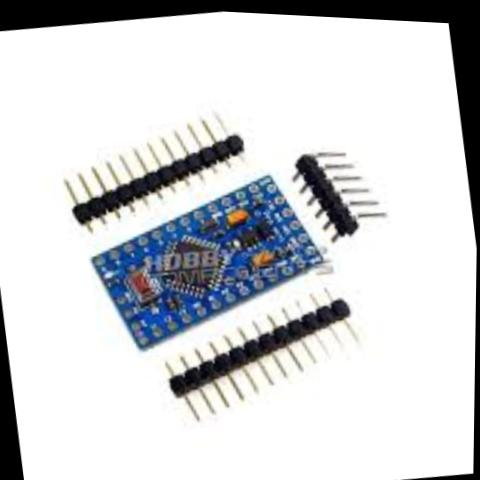Arduino-Pro-Mini: (74, 149, 343, 370)
